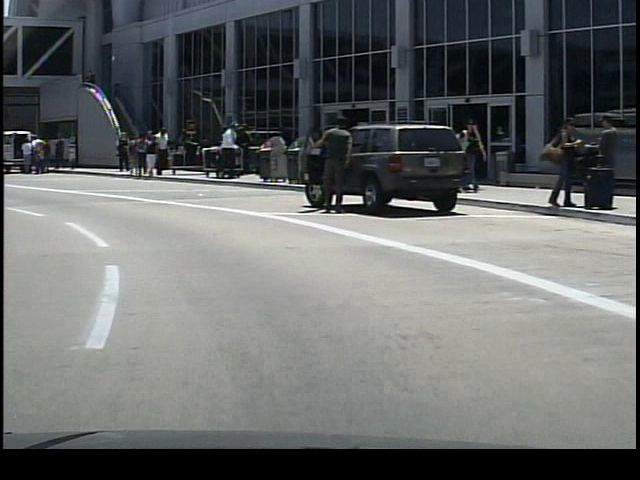person: (309, 114, 352, 220), (538, 115, 577, 211), (587, 112, 619, 207), (456, 114, 488, 199), (215, 119, 241, 183), (138, 130, 159, 180), (49, 129, 70, 176), (153, 124, 170, 179), (109, 129, 129, 174), (29, 132, 48, 176), (16, 137, 35, 177)
